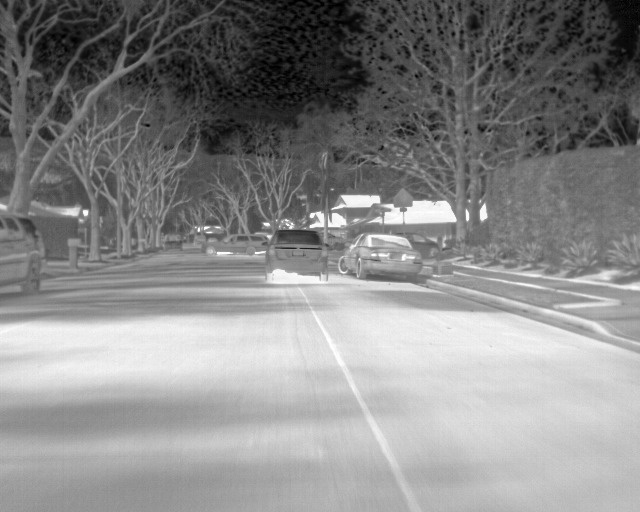vehicle: (337, 233, 424, 278), (1, 213, 45, 300), (266, 230, 329, 278)
